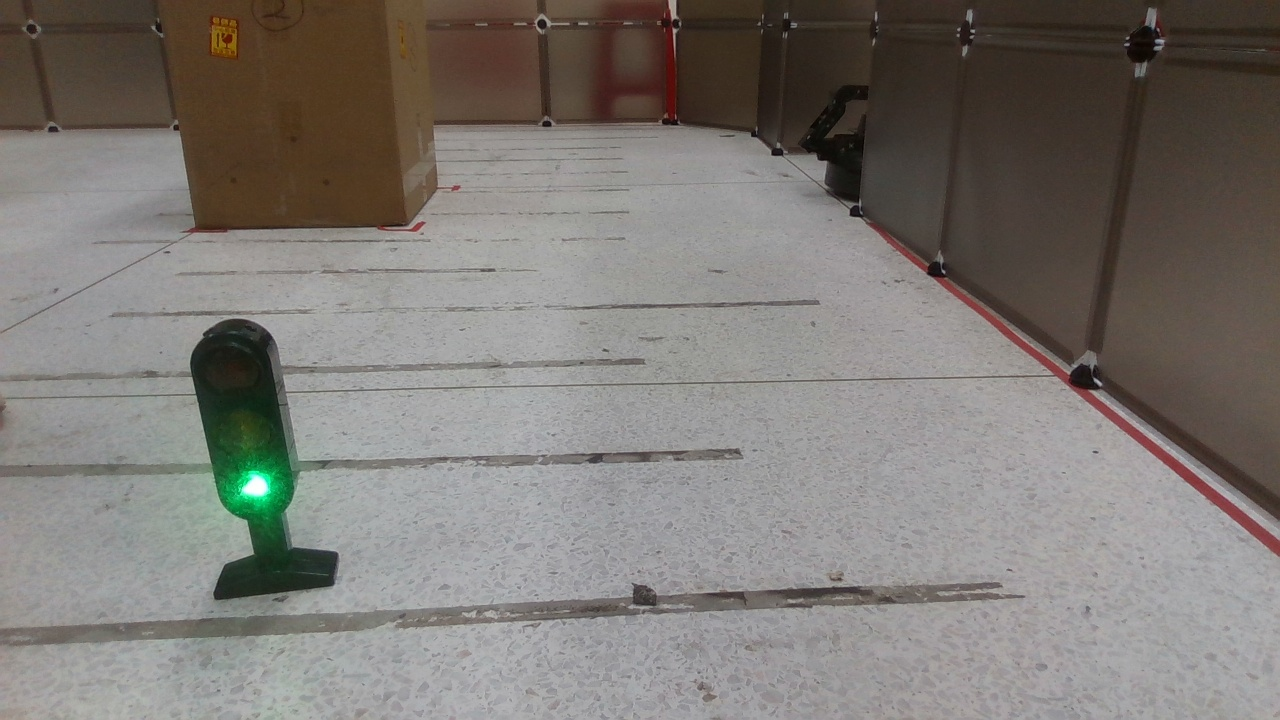Green traffic light: (182, 318, 342, 601)
